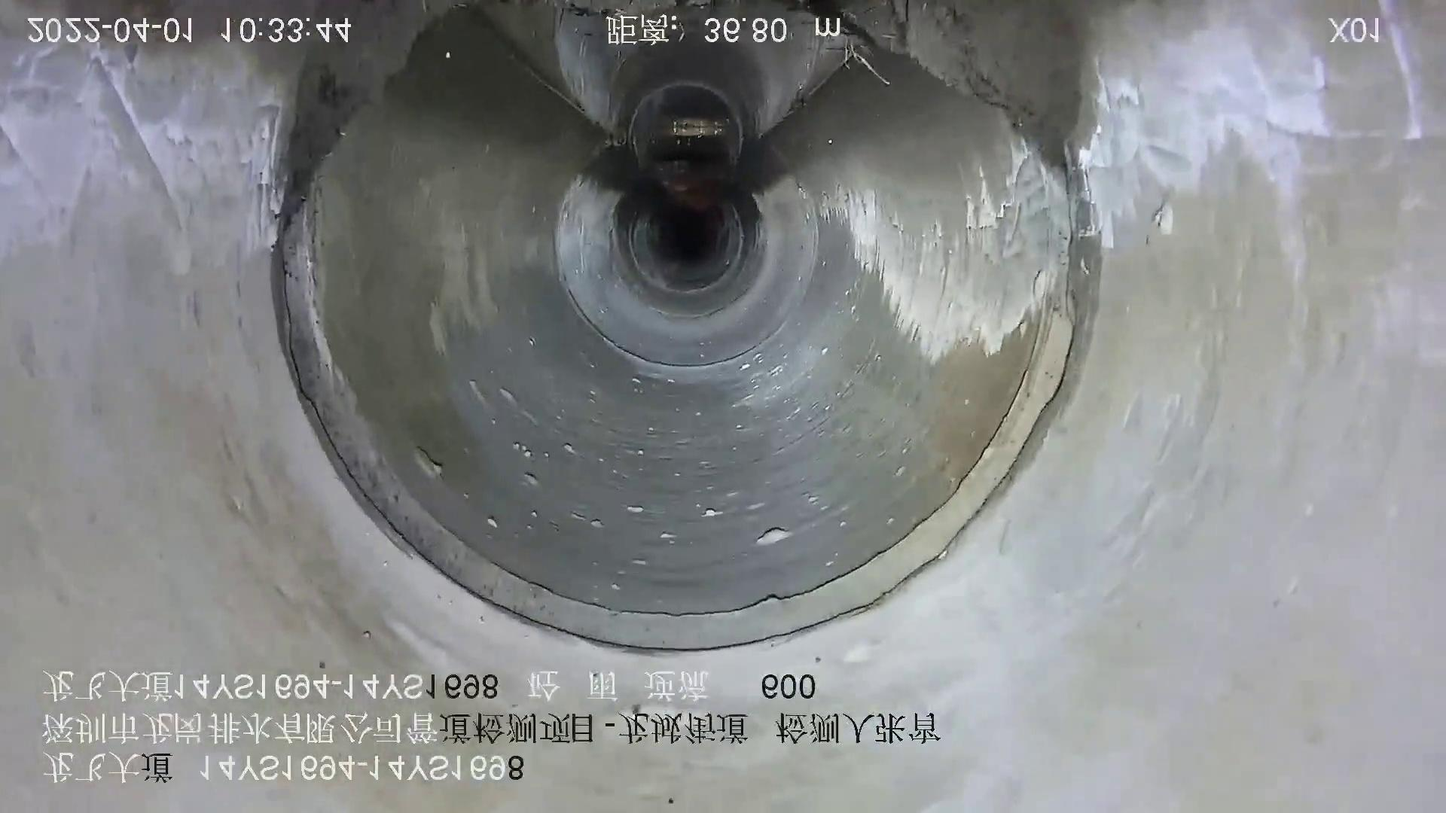CKTJ: (273, 154, 1088, 652)
